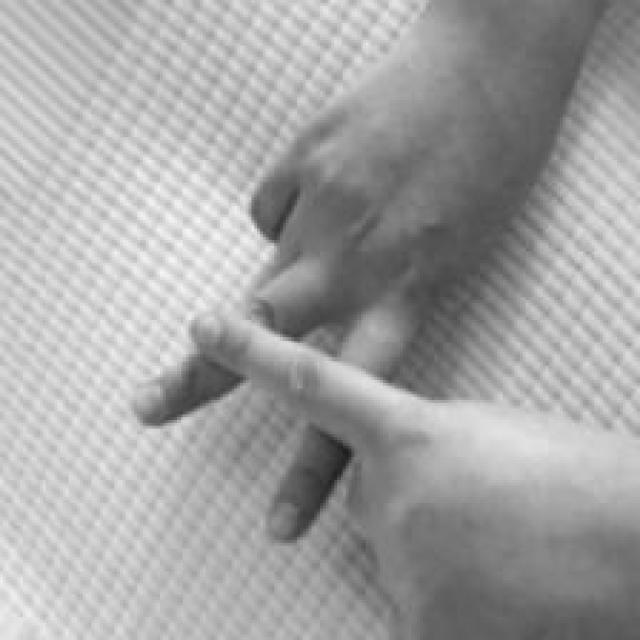A: (126, 99, 562, 640)
